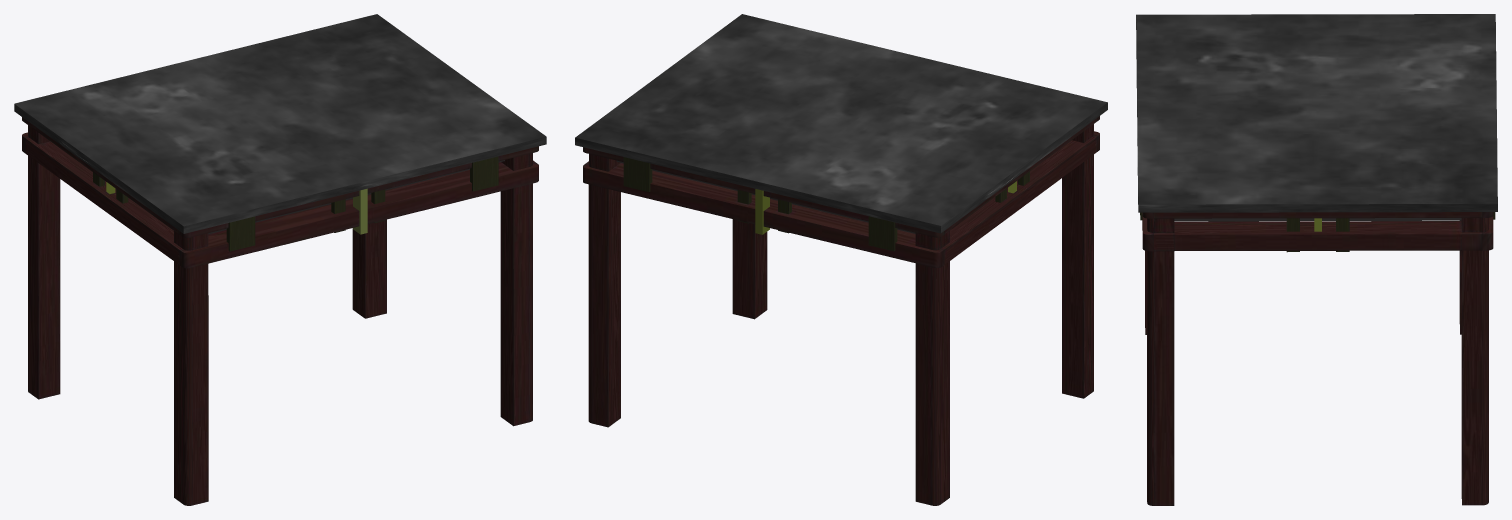
3 renders of one model, left to right at view 1: azimuth 30°, elevation 25°; view 2: azimuth 150°, elevation 25°; view 3: azimuth 270°, elevation 25°, orthographic. The views are drawn at different scales.
Visible parts, largest first — view 1: Top_Shape_2_0, Leg 3_Shape_29_0, Bottom 3_Shape_68_0, Leg 4_Shape_32_0, Leg 2_Shape_8_0, Bottom 4_Shape_53_0, Leg 1_Shape_5_0, Top 3_Shape_74_0, Item group 3_Shape_38_0, Top 4_Shape_56_0, Item group 1_Shape_35_0; view 2: Top_Shape_2_0, Leg 2_Shape_8_0, Bottom 1_Shape_59_0, Leg 1_Shape_5_0, Leg 3_Shape_29_0, Bottom 4_Shape_53_0, Leg 4_Shape_32_0, Top 1_Shape_65_0, Item group 4_Shape_11_0, Top 4_Shape_56_0, Item group 1_Shape_35_0; view 3: Top_Shape_2_0, Bottom 2 (2)_Shape_71_0, Leg 1_Shape_5_0, Leg 4_Shape_32_0, Top 2 (3)_Shape_77_0, Black 2_Shape_47_0, Item group 1_Shape_35_0.
Boxes of the visible parts, left/top/right/bottom form: Top_Shape_2_0: left=14, top=14, right=546, bottom=233; Leg 3_Shape_29_0: left=174, top=231, right=208, bottom=505; Bottom 3_Shape_68_0: left=180, top=162, right=538, bottom=268; Leg 4_Shape_32_0: left=500, top=153, right=532, bottom=426; Leg 2_Shape_8_0: left=28, top=125, right=60, bottom=399; Bottom 4_Shape_53_0: left=25, top=137, right=182, bottom=265; Leg 1_Shape_5_0: left=352, top=219, right=386, bottom=318; Top 3_Shape_74_0: left=180, top=146, right=538, bottom=237; Item group 3_Shape_38_0: left=226, top=156, right=498, bottom=251; Top 4_Shape_56_0: left=25, top=119, right=179, bottom=234; Item group 1_Shape_35_0: left=93, top=172, right=385, bottom=232; Top_Shape_2_0: left=575, top=14, right=1107, bottom=233; Leg 2_Shape_8_0: left=915, top=231, right=949, bottom=505; Bottom 1_Shape_59_0: left=583, top=163, right=944, bottom=267; Leg 1_Shape_5_0: left=588, top=154, right=620, bottom=427; Leg 3_Shape_29_0: left=1062, top=124, right=1093, bottom=398; Bottom 4_Shape_53_0: left=941, top=136, right=1096, bottom=264; Leg 4_Shape_32_0: left=732, top=219, right=767, bottom=319; Top 1_Shape_65_0: left=583, top=147, right=944, bottom=237; Item group 4_Shape_11_0: left=623, top=157, right=897, bottom=251; Top 4_Shape_56_0: left=944, top=118, right=1096, bottom=234; Item group 1_Shape_35_0: left=737, top=171, right=1029, bottom=233; Top_Shape_2_0: left=1136, top=14, right=1497, bottom=212; Bottom 2 (2)_Shape_71_0: left=1154, top=221, right=1482, bottom=251; Leg 1_Shape_5_0: left=1461, top=218, right=1488, bottom=505; Leg 4_Shape_32_0: left=1147, top=218, right=1174, bottom=505; Top 2 (3)_Shape_77_0: left=1154, top=212, right=1482, bottom=218; Black 2_Shape_47_0: left=1174, top=218, right=1461, bottom=221; Item group 1_Shape_35_0: left=1286, top=218, right=1349, bottom=252.
Size of the model in its own units: 18.41 by 13.74 by 14.76.
28 materials, 16 textured.
